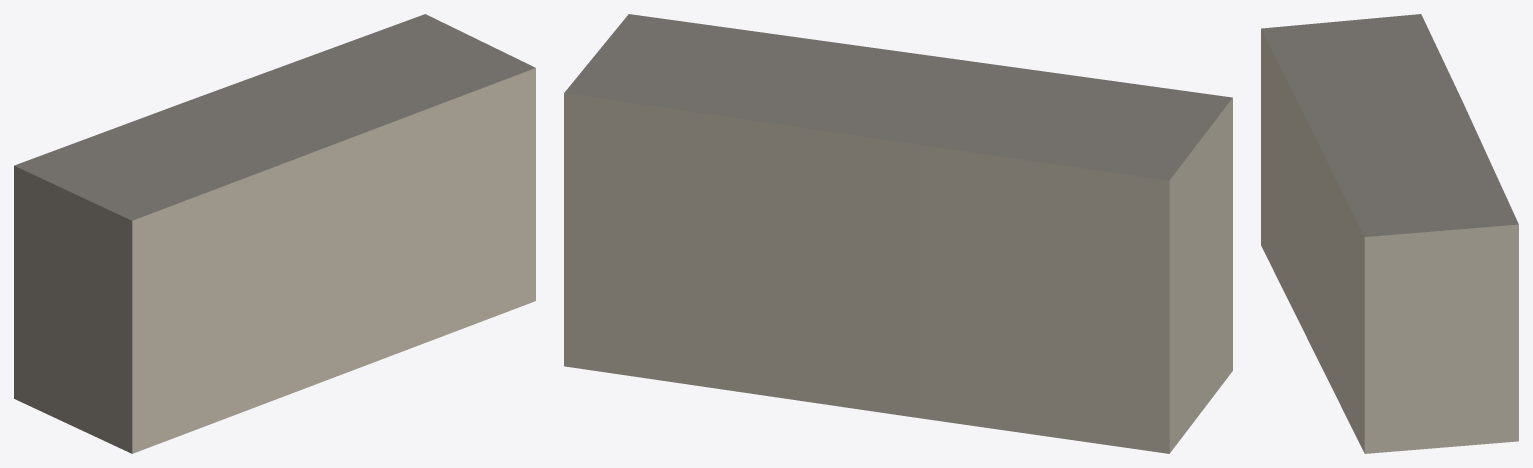
The picture shows the model from 3 angles, left to right: view 1: azimuth 30°, elevation 25°; view 2: azimuth 150°, elevation 25°; view 3: azimuth 270°, elevation 25°; orthographic projection. The views are drawn at different scales.
Parts seen in each view (by area): view 1: HP-w380339846; view 2: HP-w380339846; view 3: HP-w380339846.
Boxes of the visible parts, left/top/right/bottom form: HP-w380339846: left=14, top=14, right=535, bottom=453; HP-w380339846: left=564, top=14, right=1232, bottom=453; HP-w380339846: left=1261, top=14, right=1518, bottom=453.
Size of the model in its own units: 39.71 by 18 by 19.4.
